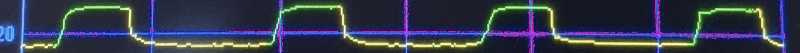normal_pressure: (28, 0, 800, 53)
